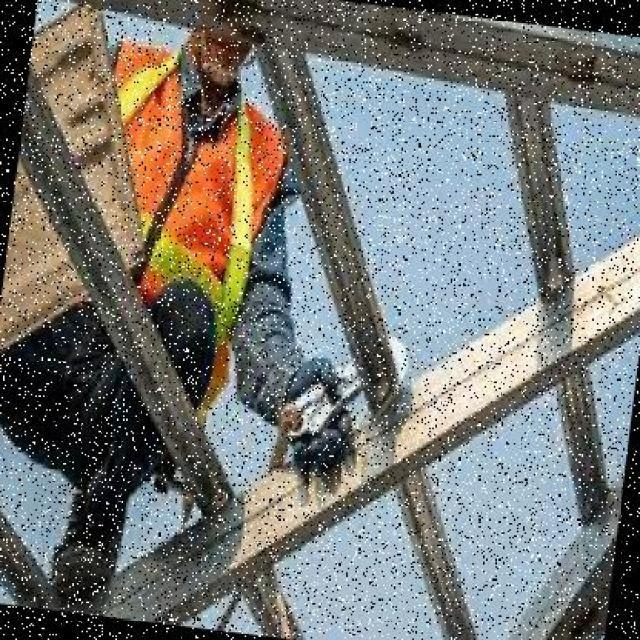Arnes_seguridad: (82, 33, 270, 354)
